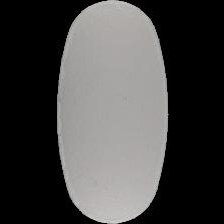54868-6316: (0, 0, 224, 224)
